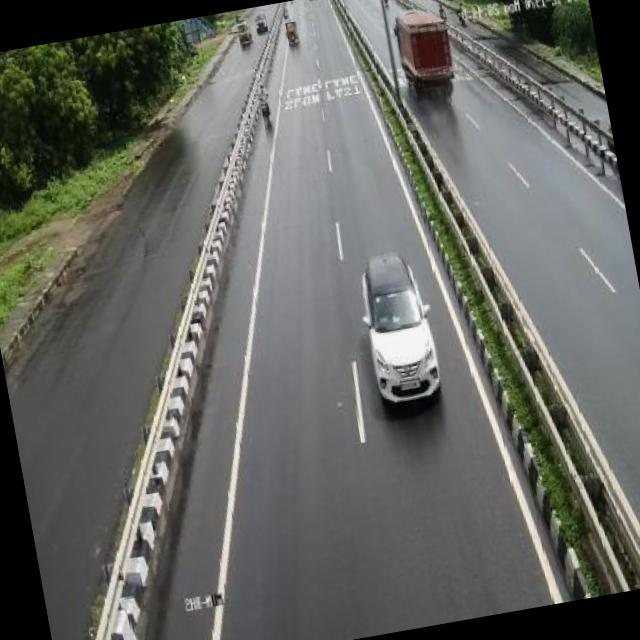car: (348, 242, 447, 421)
